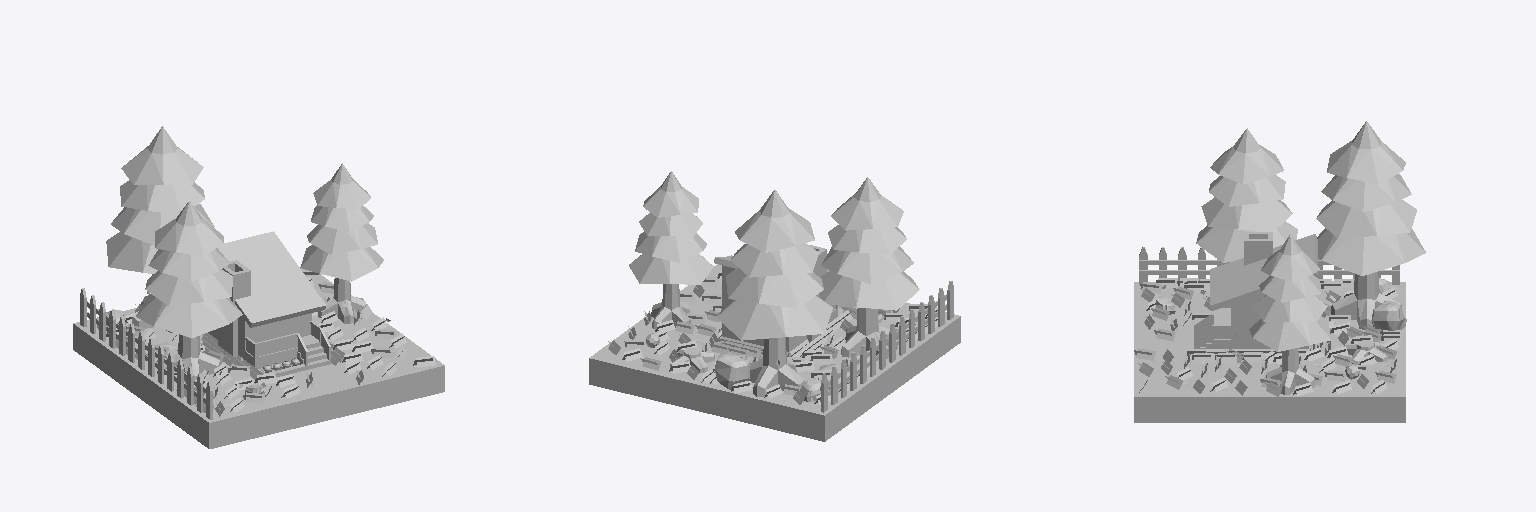
Rendered from forest_house_tri.obj.
3 renders of one model, left to right at view 1: azimuth 30°, elevation 25°; view 2: azimuth 150°, elevation 25°; view 3: azimuth 270°, elevation 25°, orthographic.
Visible parts, largest first — view 1: ground, tree_01, tree_02, tree_00, house, fence, support, chimney; view 2: ground, tree_02, tree_01, tree_00, fence, rock_02, tree_stump; view 3: ground, tree_02, tree_01, tree_00, house, fence, support, chimney, rock_02, tree_stump.
Boxes of the visible parts, box(x1,y1,x2,y2) form: ground: box(73, 268, 444, 448); tree_01: box(136, 201, 242, 382); tree_02: box(106, 126, 214, 332); tree_00: box(300, 163, 383, 323); house: box(216, 231, 325, 350); fence: box(80, 288, 213, 419); support: box(208, 321, 330, 376); chimney: box(218, 260, 250, 362); ground: box(589, 264, 960, 441); tree_02: box(717, 190, 832, 396); tree_01: box(819, 177, 919, 358); tree_00: box(629, 171, 713, 329); fence: box(820, 281, 953, 412); rock_02: box(715, 353, 749, 389); tree_stump: box(670, 348, 714, 372); ground: box(1134, 282, 1405, 422); tree_02: box(1316, 121, 1425, 329); tree_01: box(1196, 128, 1297, 262); tree_00: box(1249, 234, 1330, 394); house: box(1210, 234, 1317, 339); fence: box(1139, 247, 1399, 284); support: box(1194, 305, 1308, 350); chimney: box(1244, 232, 1272, 265); rock_02: box(1372, 300, 1404, 331); tree_stump: box(1344, 340, 1387, 364).
Size of the model in its own units: 0.1511 by 0.1257 by 0.1506.